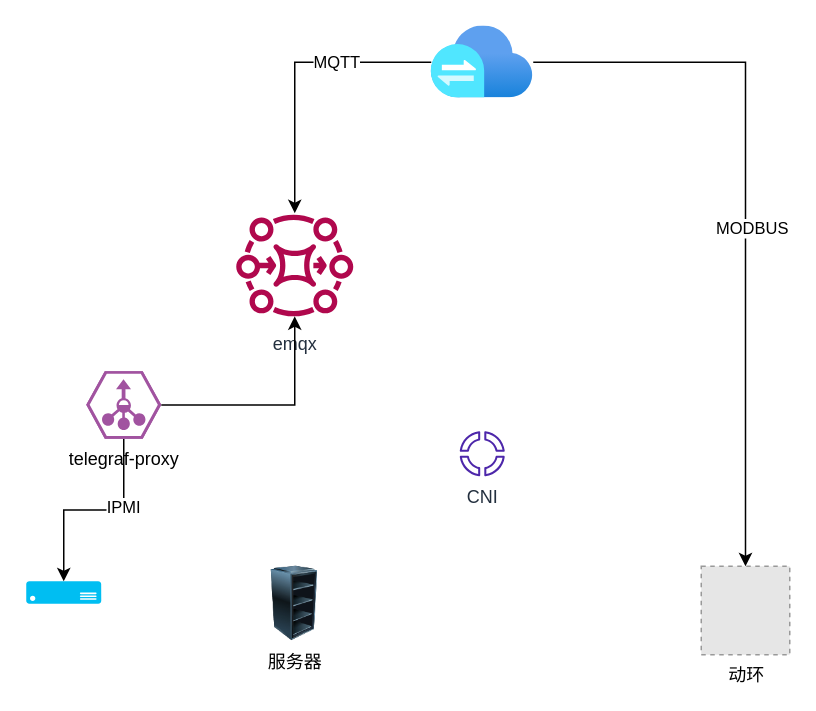
This 816x711 diagram has some shape labels left out. Grey dashed boxes stand in for pictures. The centre of each missing label's shape, as x and y in pixels:
"裸金属" belongs at point 63,591.
"边缘网关" belongs at point 481,62.
